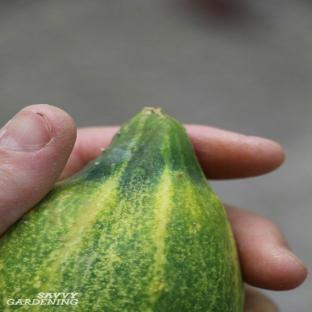Cucumber: (0, 108, 243, 311)
